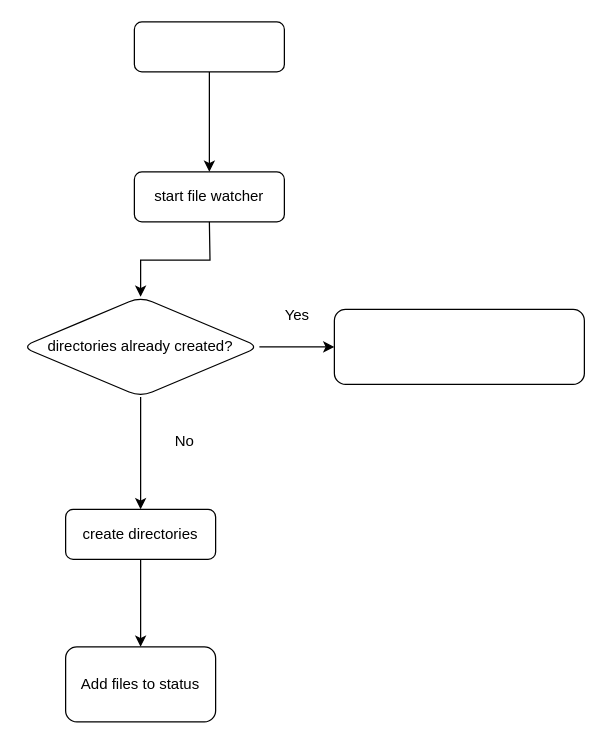
The diagram is 606 pixels wide and 744 high, and some of its shapes have lost their labels. Each missing label, with the box of its shape:
init: (133, 21, 284, 72)
PVCAlreadyInitialized error: (333, 308, 584, 384)
